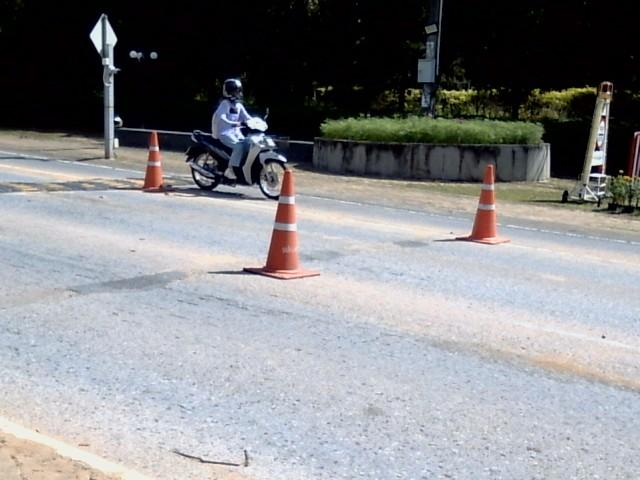helmet: (222, 77, 241, 96)
motor: (185, 117, 286, 199)
person: (212, 78, 250, 179)
